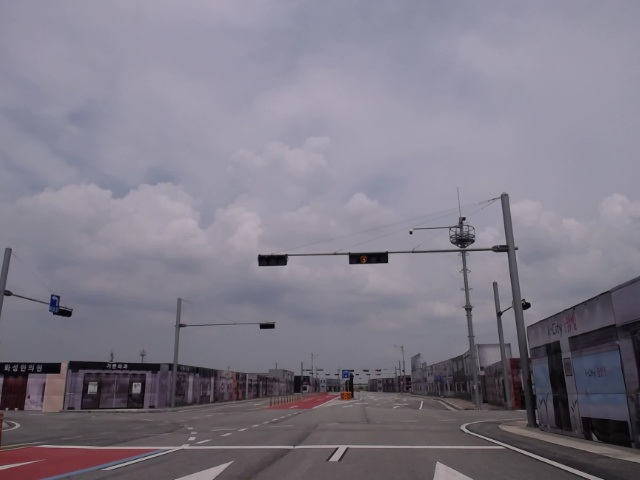orange_4: (349, 252, 391, 266)
